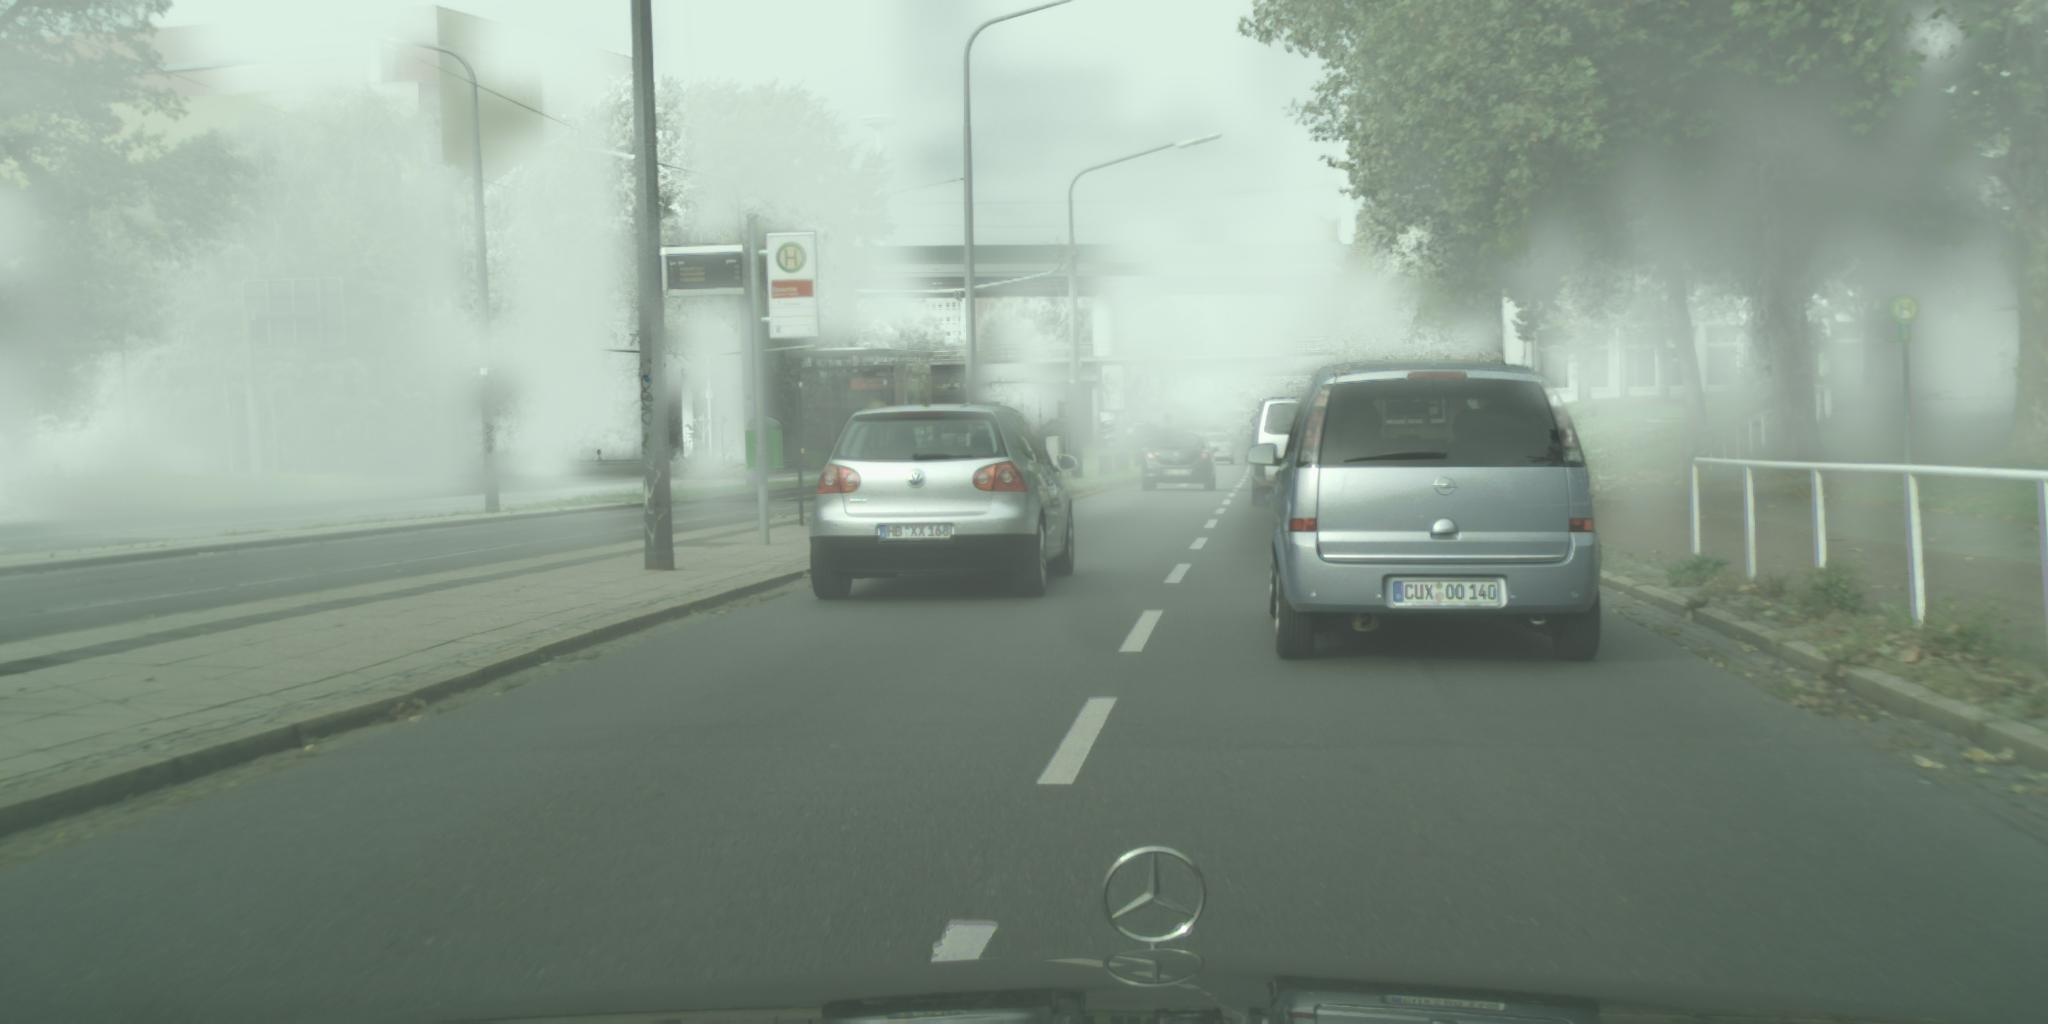car: (1247, 360, 1601, 662), (811, 404, 1080, 601), (1241, 398, 1311, 505), (1143, 432, 1221, 492), (1101, 423, 1162, 451), (1202, 432, 1236, 468), (1208, 423, 1233, 445)
